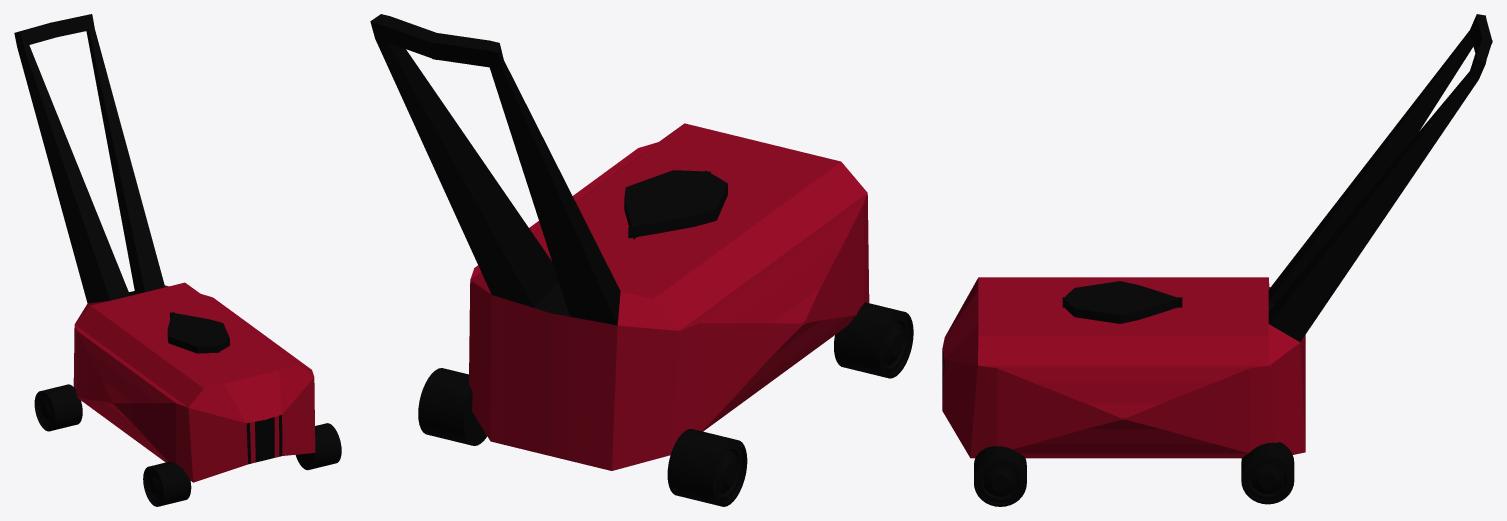
3 renders of one model, left to right at view 1: azimuth 30°, elevation 25°; view 2: azimuth 150°, elevation 25°; view 3: azimuth 270°, elevation 25°, orthographic. The views are drawn at different scales.
Visible parts, largest first — view 1: Cube, Cylinder.002, Cylinder.001; view 2: Cube, Cylinder.001, Cylinder.002; view 3: Cube, Cylinder.001, Cylinder.002.
Boxes of the visible parts, x1,y1,x2,y2 form: Cube: (14, 14, 315, 482); Cylinder.002: (143, 423, 341, 506); Cylinder.001: (34, 384, 82, 431); Cube: (370, 14, 869, 470); Cylinder.001: (418, 368, 747, 506); Cylinder.002: (834, 302, 913, 378); Cube: (942, 14, 1492, 458); Cylinder.001: (1241, 442, 1294, 504); Cylinder.002: (974, 446, 1026, 506).
Bounding box in the file's own units: 227 × 384 × 461.
